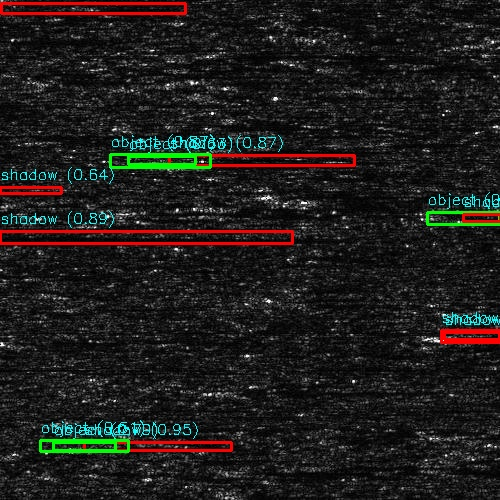rock: (129, 154, 202, 167)
shadow: (0, 233, 283, 244), (166, 154, 341, 167), (0, 137, 11, 144)
